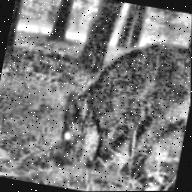boar: (49, 16, 192, 190)
